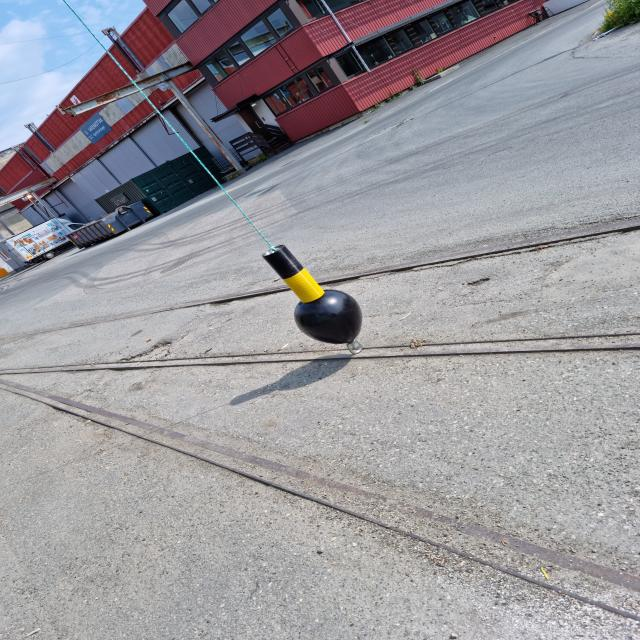east: (261, 246, 365, 344)
